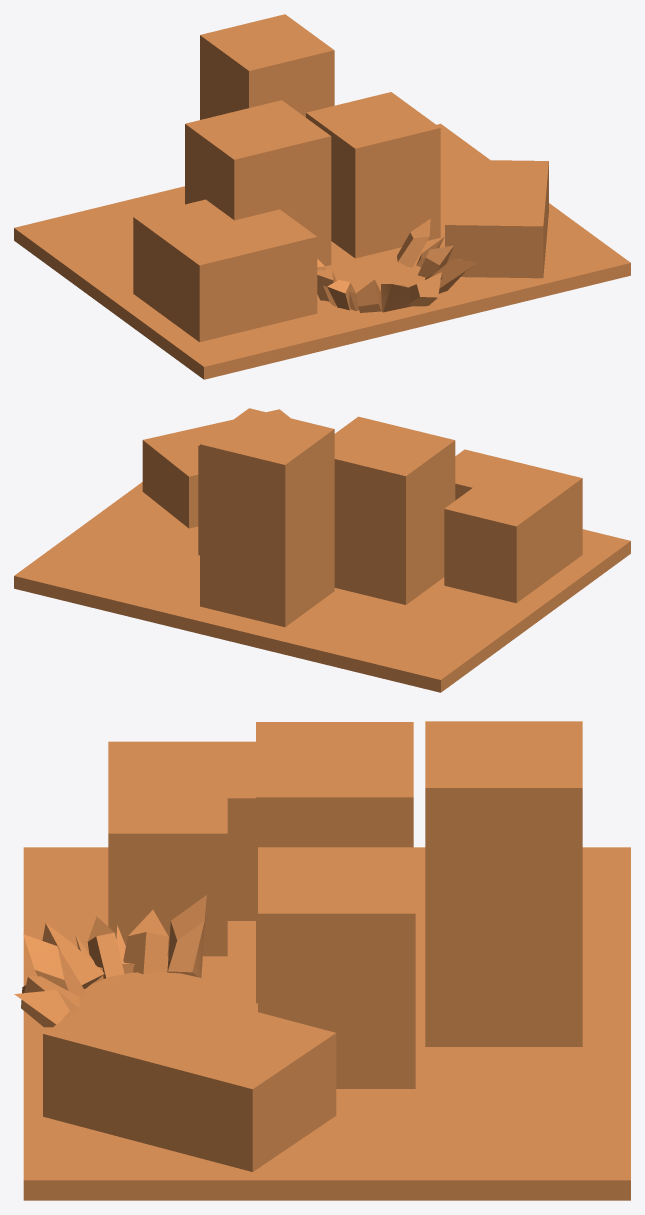
Rendered from shelf 1.fbx.
3 views of the same model, one above another, from view 1: azimuth 30°, elevation 25°; view 2: azimuth 150°, elevation 25°; view 3: azimuth 270°, elevation 25° (orthographic). The views are drawn at different scales.
Visible parts, largest first — view 1: pCube17, pCube9, pCube21, pCube20, pCube24, pCube19, pCylinder8, pCube30, pCube36, pCube37, pCube35, pCube29 (+2 smaller); view 2: pCube17, pCube19, pCube20, pCube9, pCube24; view 3: pCube17, pCube19, pCube24, pCube21, pCube9, pCube20, pCube31, pCylinder8, pCube32, pCube37, pCube28, pCube29 (+2 smaller).
Part boxes in pixels (x1,y1,x2,y2): pCube17: [14, 123, 630, 379]; pCube9: [133, 199, 317, 342]; pCube21: [306, 92, 440, 258]; pCube20: [185, 100, 331, 266]; pCube24: [445, 159, 548, 278]; pCube19: [200, 14, 334, 119]; pCylinder8: [332, 258, 425, 293]; pCube30: [397, 218, 430, 267]; pCube36: [407, 272, 441, 306]; pCube37: [381, 284, 410, 312]; pCube35: [425, 259, 477, 293]; pCube29: [356, 279, 381, 312]; pCube17: [14, 482, 630, 692]; pCube19: [200, 408, 334, 627]; pCube20: [334, 416, 455, 604]; pCube9: [444, 449, 582, 603]; pCube24: [142, 409, 290, 528]; pCube17: [23, 847, 630, 1200]; pCube19: [425, 721, 582, 1046]; pCube24: [43, 977, 336, 1171]; pCube21: [258, 847, 415, 1088]; pCube9: [108, 741, 255, 956]; pCube20: [256, 722, 413, 1003]; pCube31: [167, 895, 206, 977]; pCylinder8: [79, 971, 232, 1008]; pCube32: [123, 910, 168, 974]; pCube37: [23, 934, 85, 1001]; pCube28: [87, 916, 124, 978]; pCube29: [42, 923, 104, 988].
Bounding box in the file's own units: 35 × 13.71 × 27.42.
